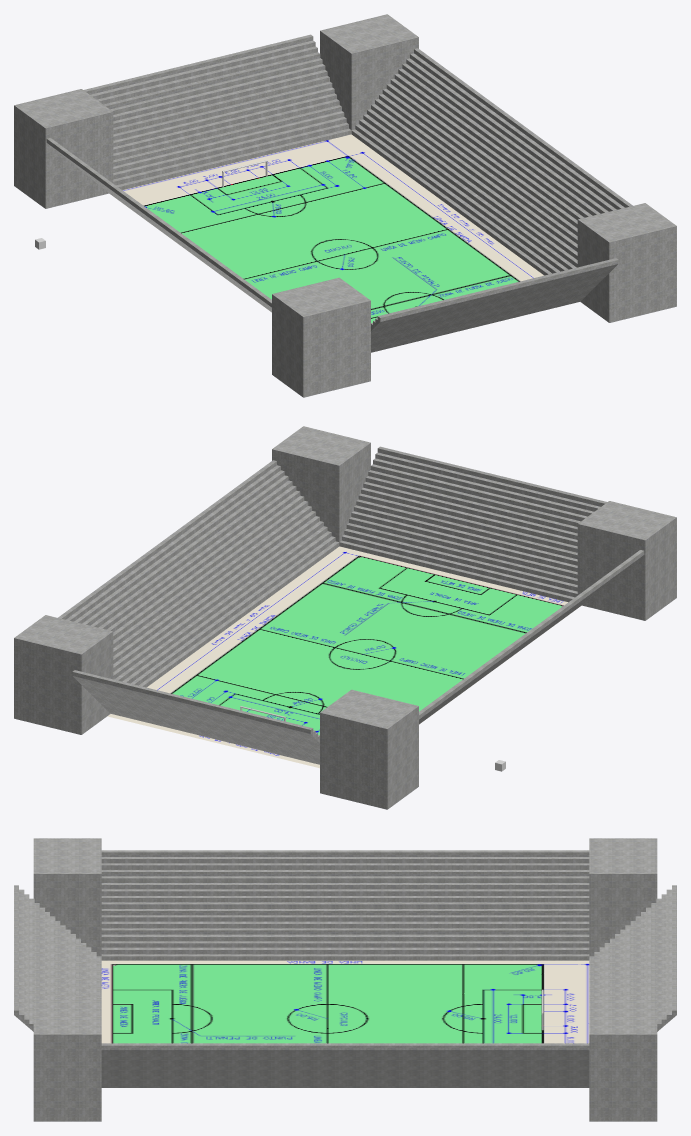
File: F7 30x50 Referenced.FBX
3 views of the same model, one above another, from view 1: azimuth 30°, elevation 25°; view 2: azimuth 150°, elevation 25°; view 3: azimuth 270°, elevation 25° (orthographic). The views are drawn at different scales.
Parts seen in each view (by area): view 1: Gradas002, Surface002; view 2: Gradas002, Surface002; view 3: Gradas002, Surface002.
Boxes of the visible parts, left/top/right/bottom form: Gradas002: left=14, top=14, right=676, bottom=397; Surface002: left=123, top=134, right=543, bottom=322; Gradas002: left=14, top=426, right=676, bottom=809; Surface002: left=107, top=546, right=567, bottom=768; Gradas002: left=14, top=838, right=676, bottom=1121; Surface002: left=101, top=960, right=589, bottom=1043.
Size of the model in its own units: 60.56 by 11.1 by 76.82.
3 materials, 3 textured.
